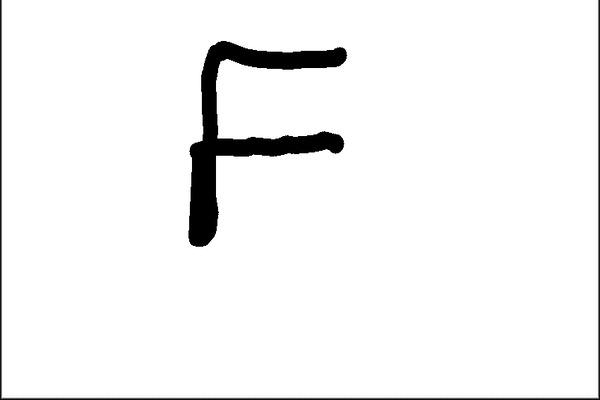F: (182, 38, 352, 248)
